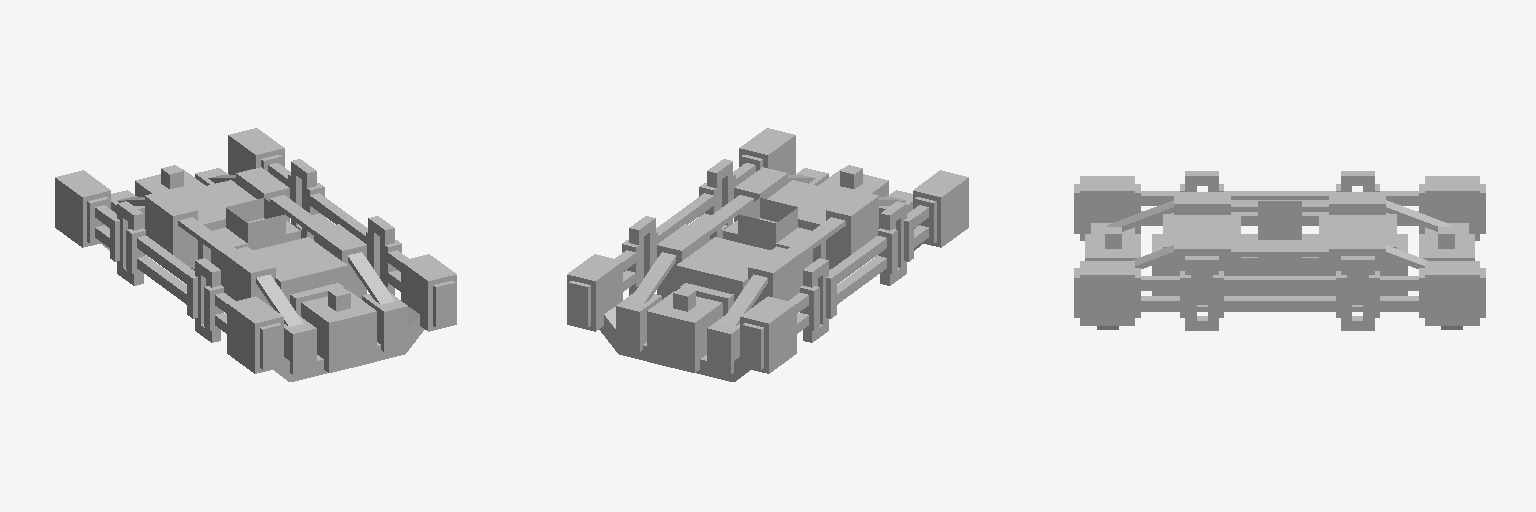
Rendered from frame.obj.
3 renders of one model, left to right at view 1: azimuth 30°, elevation 25°; view 2: azimuth 150°, elevation 25°; view 3: azimuth 270°, elevation 25°, orthographic.
Visible parts, largest first — view 1: cube_14, cube_12, cube_9, cube_42, cube_32, cube_66, cube_2, cube_11, cube_6, cube_56, cube_17, cube_18 (+17 smaller); view 2: cube_3, cube_2, cube_11, cube_32, cube_42, cube_56, cube_12, cube_9, cube_6, cube_66, cube_20, cube_19 (+17 smaller); view 3: cube_56, cube_66, cube_32, cube_42, cube_2, cube_12, cube_18, cube_19, cube_6, cube_58, cube_70, cube_9 (+16 smaller).
Part boxes in pixels (left/top/right/bottom): cube_14: left=301, top=291, right=376, bottom=372; cube_12: left=253, top=237, right=347, bottom=301; cube_9: left=145, top=189, right=197, bottom=267; cube_42: left=227, top=296, right=283, bottom=373; cube_32: left=55, top=170, right=110, bottom=247; cube_66: left=401, top=254, right=456, bottom=331; cube_2: left=175, top=180, right=256, bottom=261; cube_11: left=222, top=246, right=275, bottom=307; cube_6: left=226, top=198, right=285, bottom=242; cube_56: left=228, top=128, right=284, bottom=174; cube_17: left=362, top=292, right=407, bottom=351; cube_18: left=314, top=224, right=366, bottom=299; cube_3: left=647, top=291, right=722, bottom=372; cube_2: left=676, top=237, right=770, bottom=301; cube_11: left=826, top=189, right=878, bottom=267; cube_32: left=740, top=296, right=796, bottom=373; cube_42: left=913, top=170, right=968, bottom=247; cube_56: left=567, top=254, right=622, bottom=331; cube_12: left=767, top=180, right=848, bottom=261; cube_9: left=748, top=246, right=801, bottom=307; cube_6: left=738, top=198, right=797, bottom=242; cube_66: left=739, top=128, right=795, bottom=174; cube_20: left=616, top=292, right=661, bottom=351; cube_19: left=657, top=224, right=709, bottom=299; cube_56: left=1425, top=261, right=1479, bottom=325; cube_66: left=1080, top=261, right=1134, bottom=325; cube_32: left=1425, top=176, right=1479, bottom=240; cube_42: left=1080, top=176, right=1134, bottom=240; cube_2: left=1319, top=214, right=1396, bottom=275; cube_12: left=1163, top=214, right=1240, bottom=275; cube_18: left=1174, top=236, right=1230, bottom=304; cube_19: left=1329, top=236, right=1385, bottom=304; cube_6: left=1258, top=201, right=1301, bottom=239; cube_58: left=1224, top=276, right=1335, bottom=290; cube_70: left=1224, top=296, right=1335, bottom=310; cube_9: left=1329, top=192, right=1385, bottom=214.
Bounding box in the file's own units: 2.62 × 1.12 × 4.62.